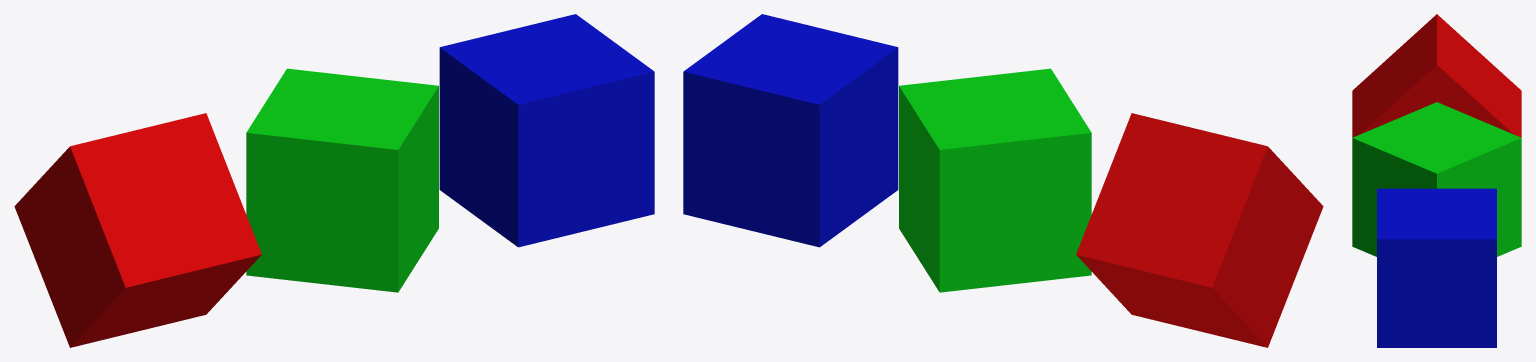
Rendered from simpleTest.dae.
3 views of the same model, side by side, from view 1: azimuth 30°, elevation 25°; view 2: azimuth 150°, elevation 25°; view 3: azimuth 270°, elevation 25° (orthographic). The views are drawn at different scales.
Visible parts, largest first — view 1: Cube, Cube_002, Cube_001; view 2: Cube, Cube_002, Cube_001; view 3: Cube, Cube_001, Cube_002.
Part boxes in pixels (x1,y1,x2,y2): Cube: (439, 14, 654, 247); Cube_002: (14, 113, 261, 347); Cube_001: (246, 68, 438, 292); Cube: (683, 14, 898, 247); Cube_002: (1076, 113, 1323, 347); Cube_001: (899, 68, 1091, 292); Cube: (1377, 188, 1496, 347); Cube_001: (1352, 102, 1521, 256); Cube_002: (1352, 14, 1521, 137).
Bounding box in the file's own units: 8 × 2.83 × 2.83.
